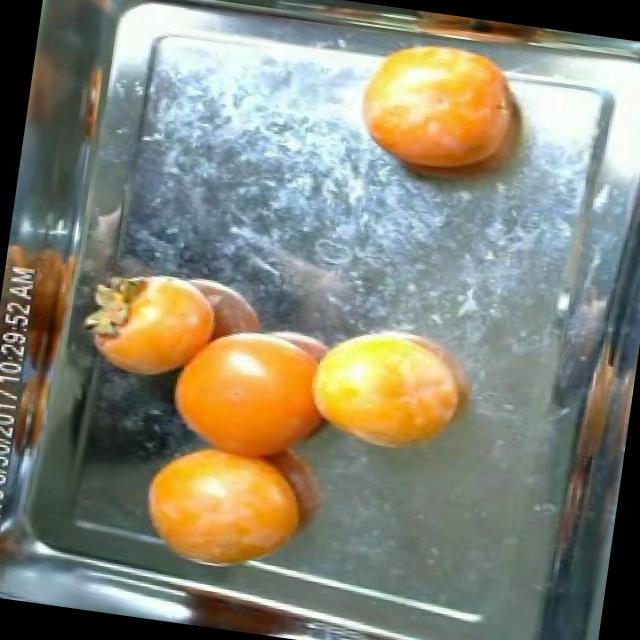Fruit: (335, 30, 555, 207), (119, 420, 340, 584)
